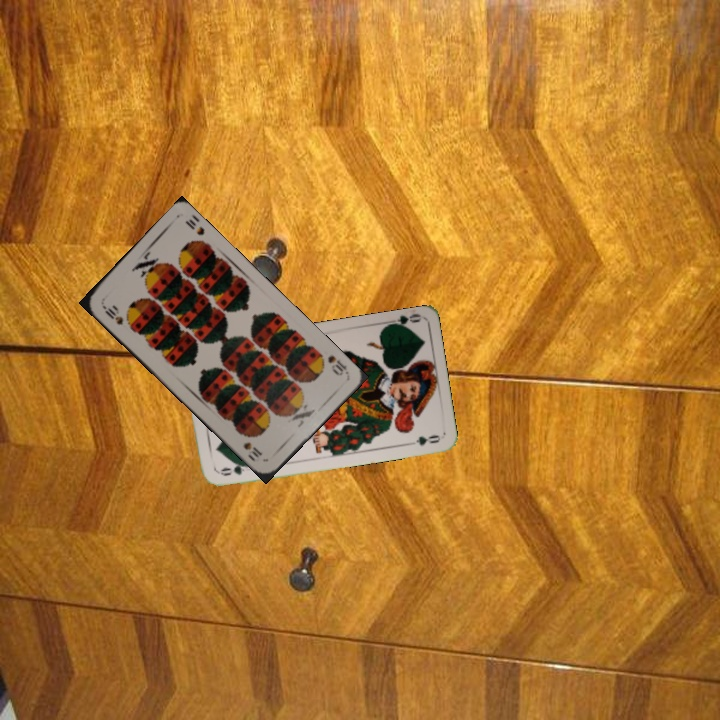GO: (382, 309, 423, 331), (215, 460, 255, 478)
S10: (98, 299, 126, 328), (323, 351, 350, 378)
